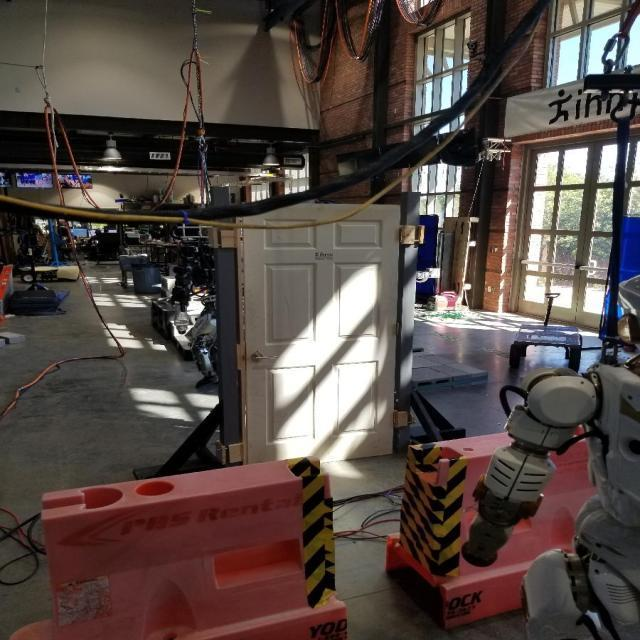door: (238, 200, 402, 480), (248, 349, 278, 365)
